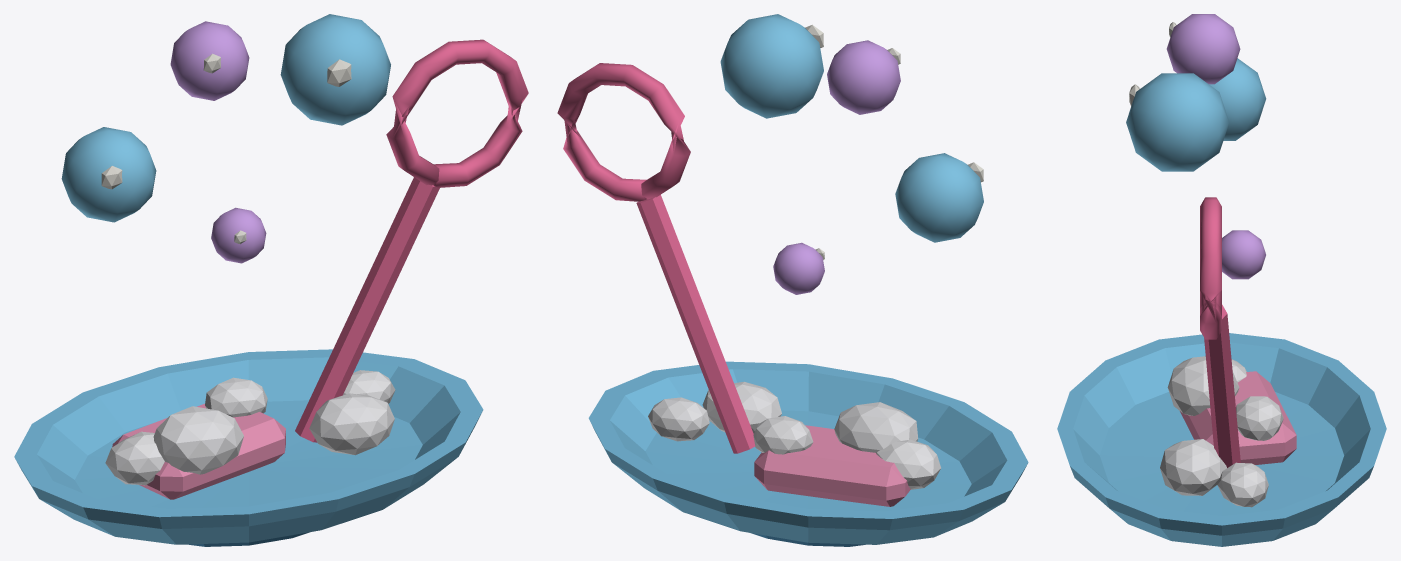
File: habitat_prop_bubbles.fbx
3 views of the same model, side by side, from view 1: azimuth 30°, elevation 25°; view 2: azimuth 150°, elevation 25°; view 3: azimuth 270°, elevation 25° (orthographic). The views are drawn at different scales.
Visible parts, largest first — view 1: habitat_prop_bubbles; view 2: habitat_prop_bubbles; view 3: habitat_prop_bubbles.
Part boxes in pixels (x1,y1,x2,y2): habitat_prop_bubbles: (14, 14, 528, 546); habitat_prop_bubbles: (557, 14, 1028, 546); habitat_prop_bubbles: (1057, 14, 1386, 546).
Size of the model in its own units: 1.4 by 1.37 by 0.8928.
